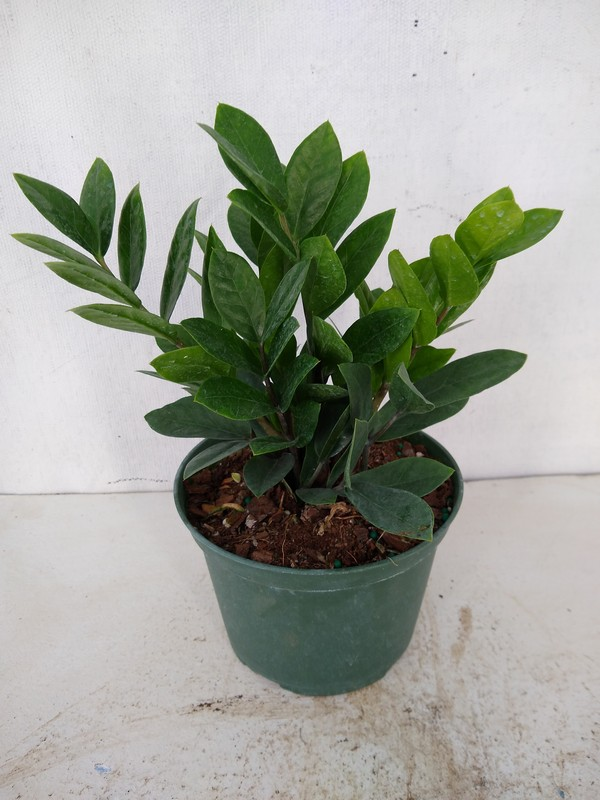plant: (9, 102, 566, 547)
pot: (174, 438, 468, 707)
